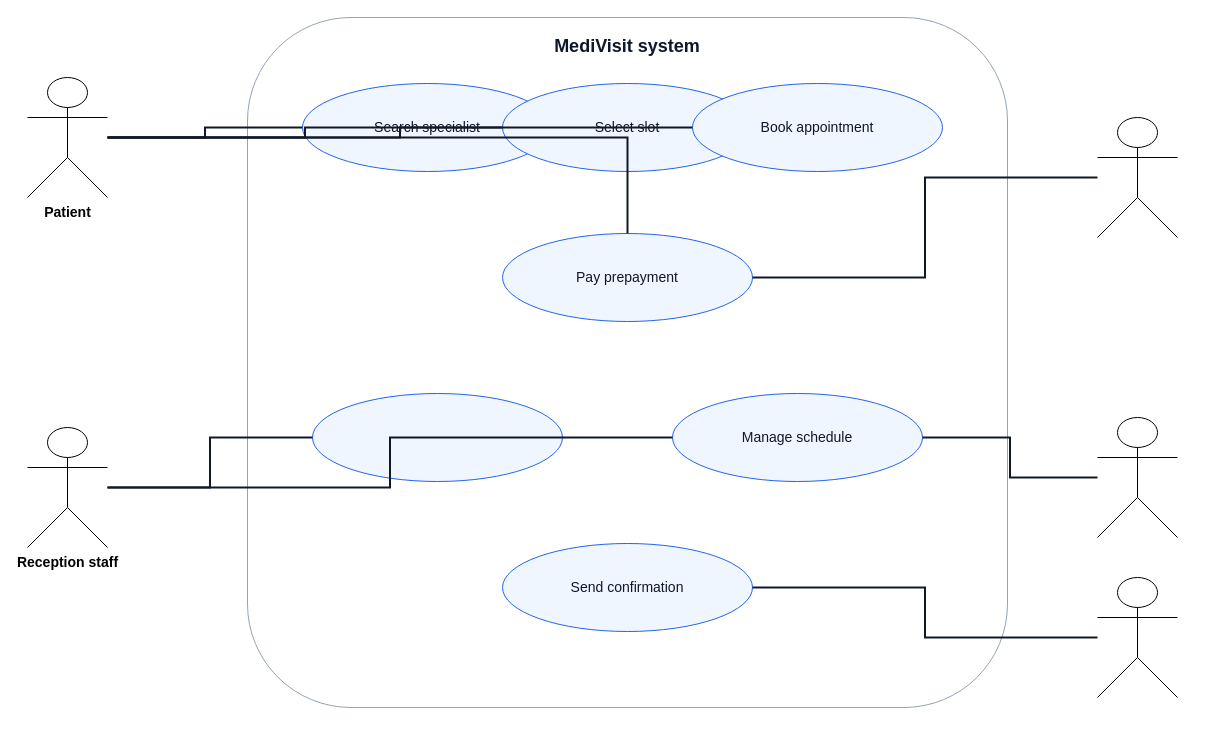
The diagram is 1219 pixels wide and 739 high, and some of its shapes have lost their labels. Each missing label, with the box of its shape:
Administrator: (1096, 416, 1178, 538)
Cancel appointment: (312, 392, 562, 482)
Notification service: (1096, 576, 1178, 698)
Payment gateway: (1096, 116, 1178, 238)
